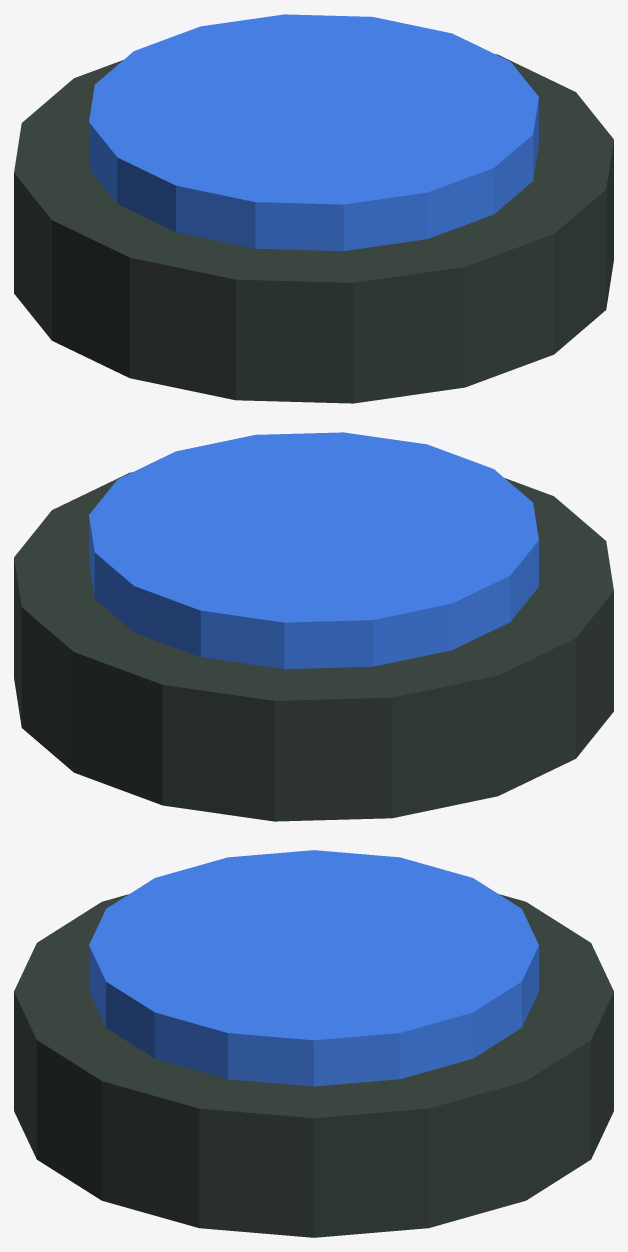
Rendered from signal-blue.glb.
3 views of the same model, one above another, from view 1: azimuth 30°, elevation 25°; view 2: azimuth 150°, elevation 25°; view 3: azimuth 270°, elevation 25° (orthographic).
Visible parts, largest first — view 1: Signal base, Signal lens; view 2: Signal base, Signal lens; view 3: Signal base, Signal lens.
Boxes of the visible parts, left/top/right/bottom form: Signal base: left=14, top=54, right=613, bottom=403; Signal lens: left=89, top=14, right=538, bottom=251; Signal base: left=14, top=472, right=613, bottom=821; Signal lens: left=89, top=432, right=538, bottom=669; Signal base: left=14, top=894, right=613, bottom=1237; Signal lens: left=89, top=850, right=538, bottom=1086.
Size of the model in its own units: 0.2 by 0.061 by 0.2.
